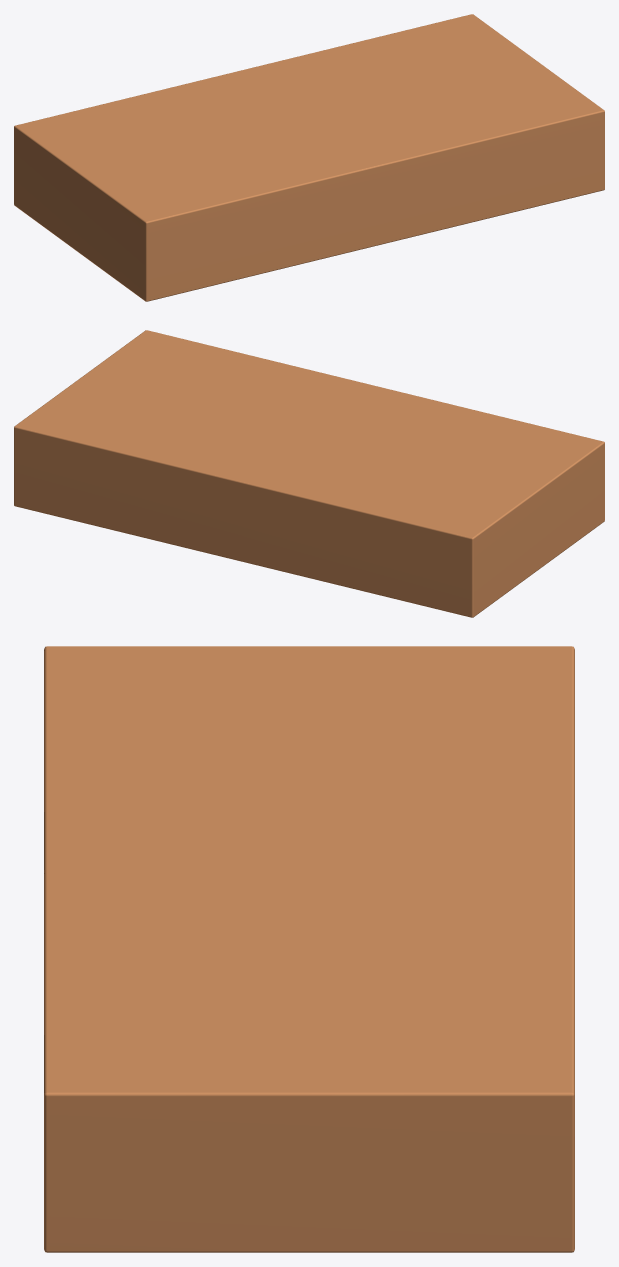
The model's file is Brick_pieces.fbx.
The picture shows the model from 3 angles, top to bottom: view 1: azimuth 30°, elevation 25°; view 2: azimuth 150°, elevation 25°; view 3: azimuth 270°, elevation 25°; orthographic projection. The views are drawn at different scales.
Visible parts, largest first — view 1: Brick_piece_01, Brick_piece_02; view 2: Brick_piece_01, Brick_piece_02; view 3: Brick_piece_02, Brick_piece_01.
Part boxes in pixels (bbox=[...]): Brick_piece_01: bbox=[14, 70, 375, 301]; Brick_piece_02: bbox=[244, 14, 604, 245]; Brick_piece_01: bbox=[243, 386, 604, 617]; Brick_piece_02: bbox=[14, 330, 374, 561]; Brick_piece_02: bbox=[44, 869, 574, 1252]; Brick_piece_01: bbox=[44, 646, 574, 871].
Size of the model in its own units: 600 by 100 by 300.
